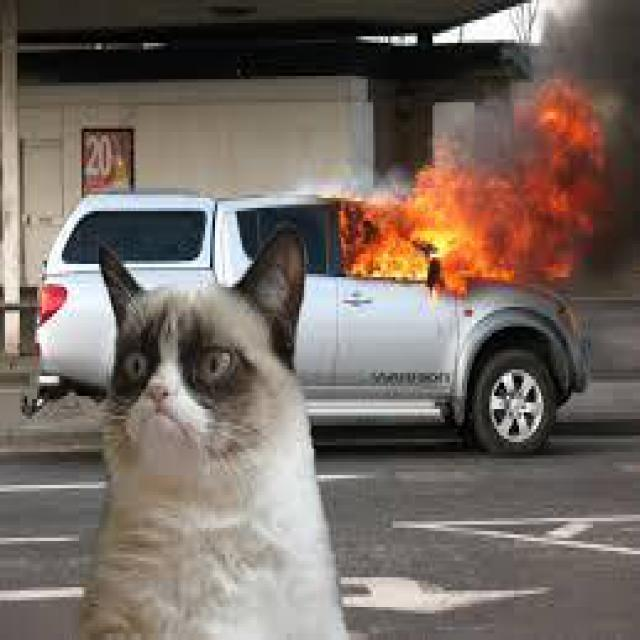fire: (347, 77, 611, 304)
